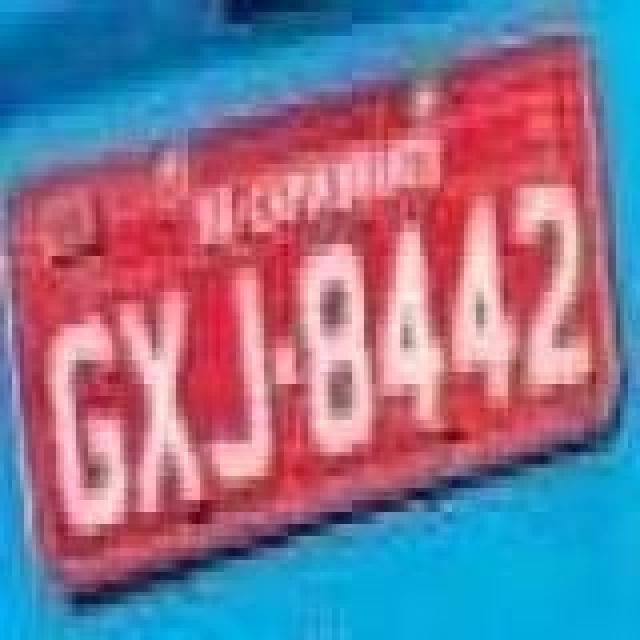2: (510, 176, 594, 400)
4: (446, 190, 522, 402), (370, 230, 446, 426)
8: (294, 240, 378, 464)
G: (48, 308, 128, 540)
J: (204, 272, 276, 496)
X: (112, 278, 208, 522)
